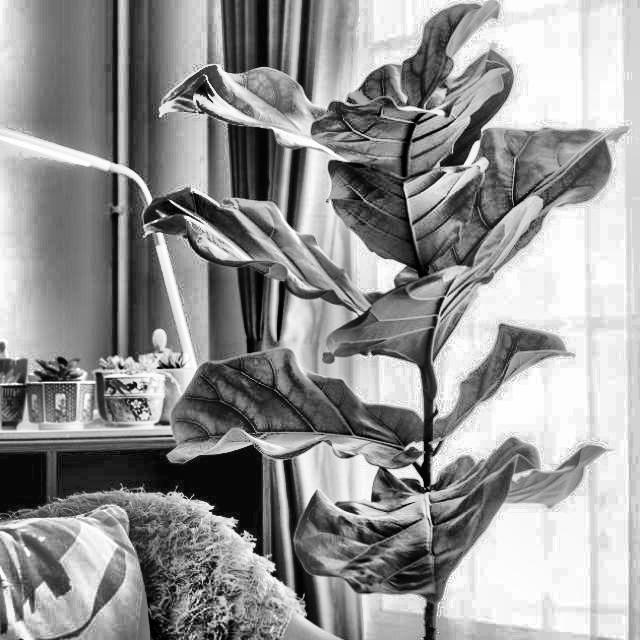plants: (168, 72, 576, 610)
